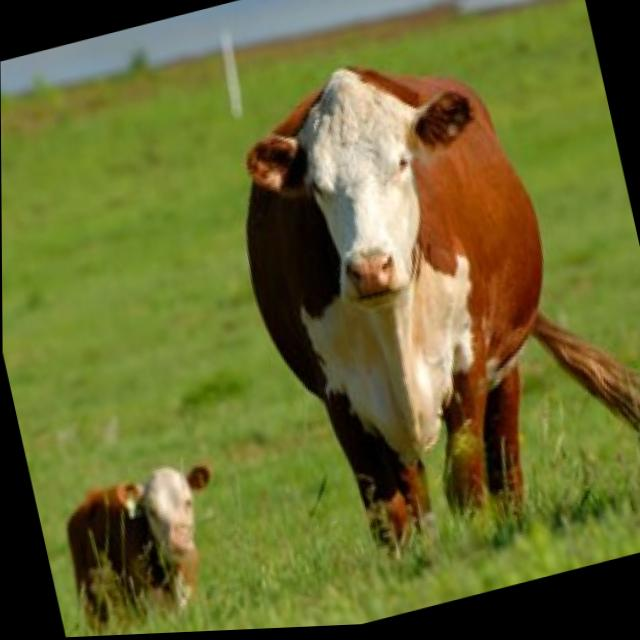cowFace: (227, 29, 517, 352), (103, 453, 233, 581)
